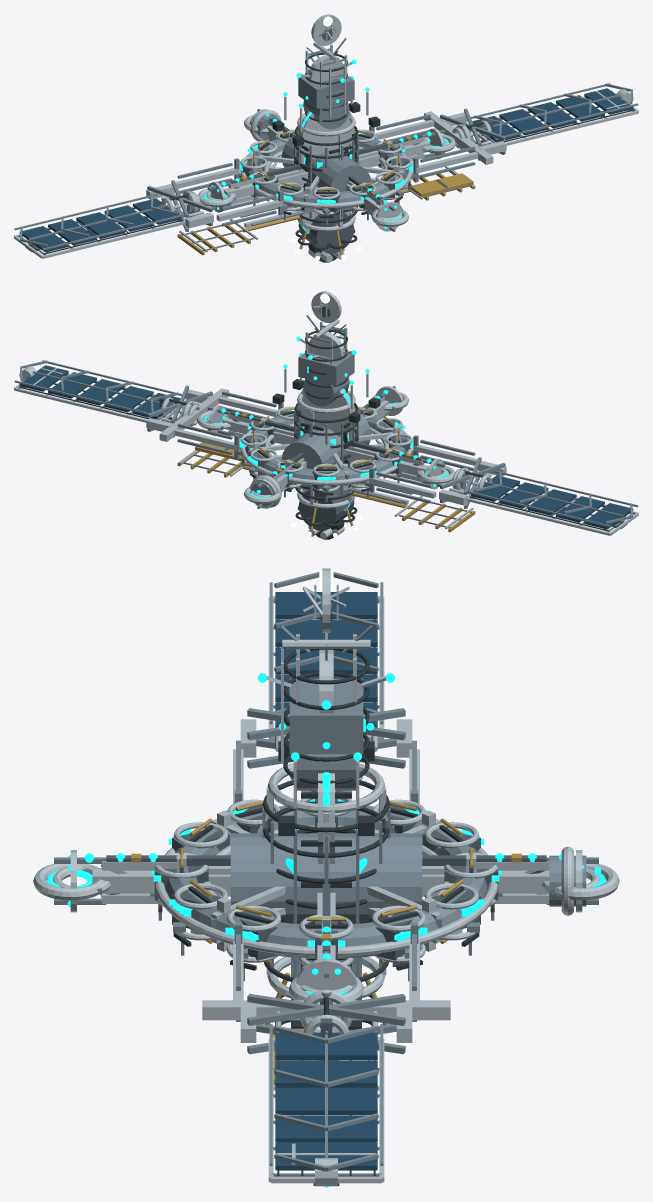
File: genesis-station.glb
The picture shows the model from 3 angles, top to bottom: view 1: azimuth 30°, elevation 25°; view 2: azimuth 150°, elevation 25°; view 3: azimuth 270°, elevation 25°; orthographic projection. The views are drawn at different scales.
Parts seen in each view (by area): view 1: Core pressure vessel, Habitat pressure ring, Command module, Engine housing, Upper structural collar, Habitat outer rail, Radiator panel, Solar boom, Command neck, Solar panel 1 1, Solar panel -1 2, Solar panel -1 4 (+23 smaller); view 2: Core pressure vessel, Habitat pressure ring, Command module, Engine housing, Upper structural collar, Habitat outer rail, Solar boom, Command neck, Solar panel 1 1, Solar panel -1 2, Solar panel -1 4, Command cap (+22 smaller); view 3: Core pressure vessel, Habitat pressure ring, Command module, Habitat outer rail, Solar panel 1 2, Solar boom, Solar panel 1 0, Solar panel 1 3, Solar panel 1 1, Solar panel -1 4, Solar panel 1 4, Solar panel -1 3 (+15 smaller).
Boxes of the visible parts, x1,y1,x2,y2 form: Core pressure vessel: (281, 133, 370, 210); Habitat pressure ring: (246, 136, 407, 209); Command module: (298, 76, 354, 108); Engine housing: (298, 212, 354, 253); Upper structural collar: (298, 111, 354, 159); Habitat outer rail: (240, 141, 412, 208); Radiator panel: (410, 173, 473, 196); Solar boom: (424, 111, 493, 164); Command neck: (303, 100, 349, 129); Solar panel 1 1: (499, 109, 548, 135); Solar panel -1 2: (76, 212, 125, 238); Solar panel -1 4: (19, 226, 68, 252); Core pressure vessel: (282, 410, 371, 487); Habitat pressure ring: (245, 413, 406, 486); Command module: (298, 352, 354, 385); Engine housing: (298, 489, 354, 530); Upper structural collar: (298, 388, 354, 436); Habitat outer rail: (240, 418, 412, 485); Solar boom: (159, 388, 228, 441); Command neck: (303, 377, 349, 406); Solar panel 1 1: (104, 386, 153, 412); Solar panel -1 2: (527, 489, 576, 515); Solar panel -1 4: (584, 503, 633, 529); Command cap: (308, 332, 344, 360); Core pressure vessel: (230, 833, 422, 924); Habitat pressure ring: (165, 805, 487, 958); Command module: (289, 678, 363, 754); Habitat outer rail: (154, 828, 498, 956); Solar panel 1 2: (275, 1087, 377, 1114); Solar boom: (202, 1000, 450, 1020); Solar panel 1 0: (275, 1032, 377, 1059); Solar panel 1 3: (275, 1115, 377, 1142); Solar panel 1 1: (275, 1060, 377, 1087); Solar panel -1 4: (275, 592, 377, 619); Solar panel 1 4: (275, 1143, 377, 1170); Solar panel -1 3: (275, 619, 377, 646).
Bounding box in the file's own units: 9.96 × 3.81 × 4.13.
